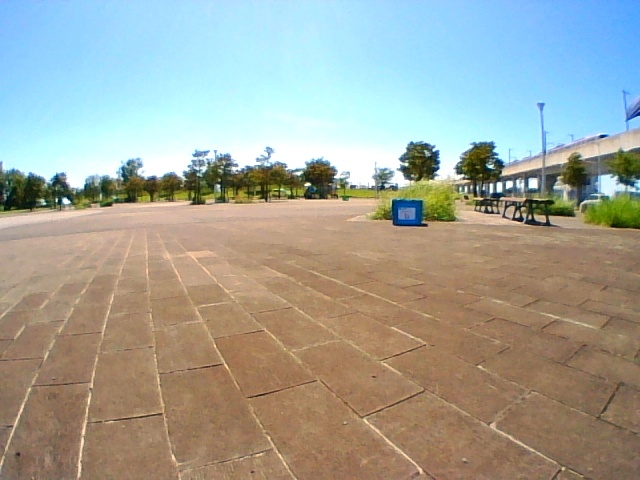blue_box: (393, 200, 423, 225)
tag_b: (398, 208, 414, 220)
